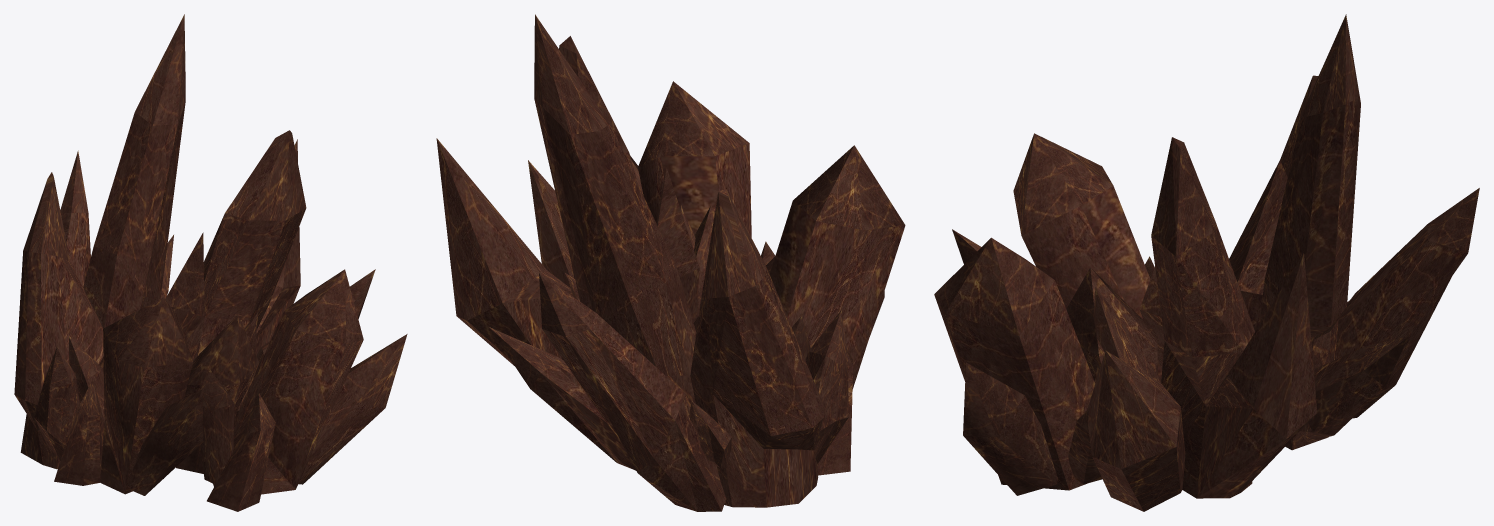
Rendered from charcrystallarge_00.fbx.
3 renders of one model, left to right at view 1: azimuth 30°, elevation 25°; view 2: azimuth 150°, elevation 25°; view 3: azimuth 270°, elevation 25°, orthographic. The views are drawn at different scales.
Visible parts, largest first — view 1: Geoset_0; view 2: Geoset_0; view 3: Geoset_0.
Boxes of the visible parts, x1,y1,x2,y2 form: Geoset_0: (14,14,407,511); Geoset_0: (436,14,905,511); Geoset_0: (934,14,1479,511).
Bounding box in the file's own units: 3.78 × 4.57 × 4.64.
Materials: 1 (1 with a texture image).
